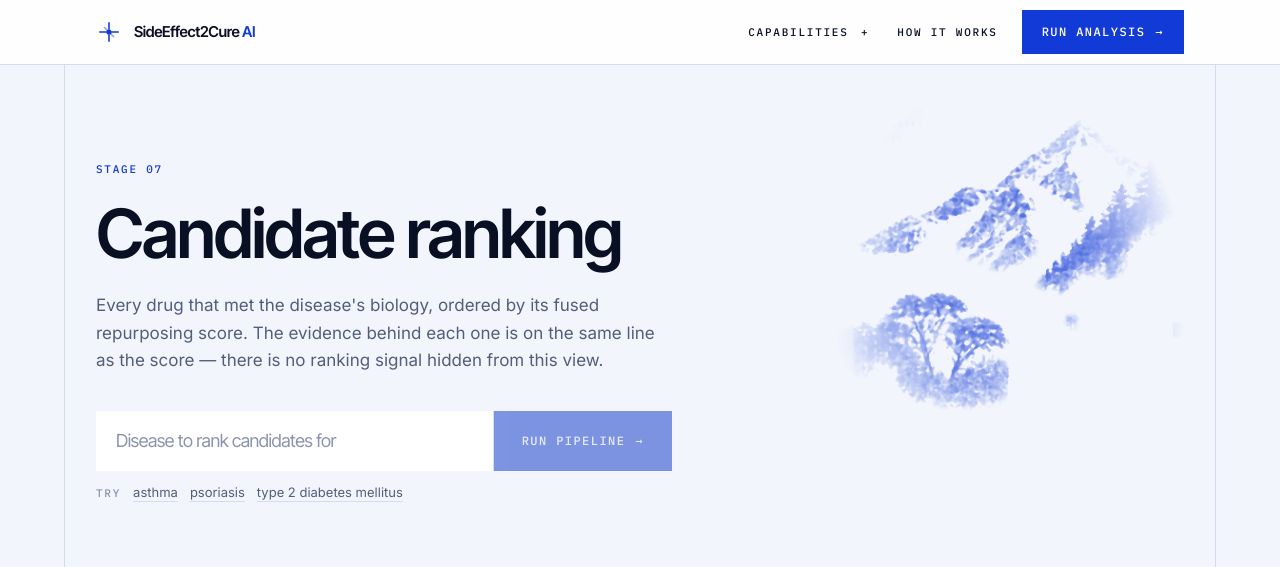
candidate ranking › runs the pipeline and lists ranked candidates with their evidence
The width and height of the screenshot is (1280, 567).
In the field labelled "Disease to rank candidates for": (294, 441) [96,411,493,471], type "glioblastoma"
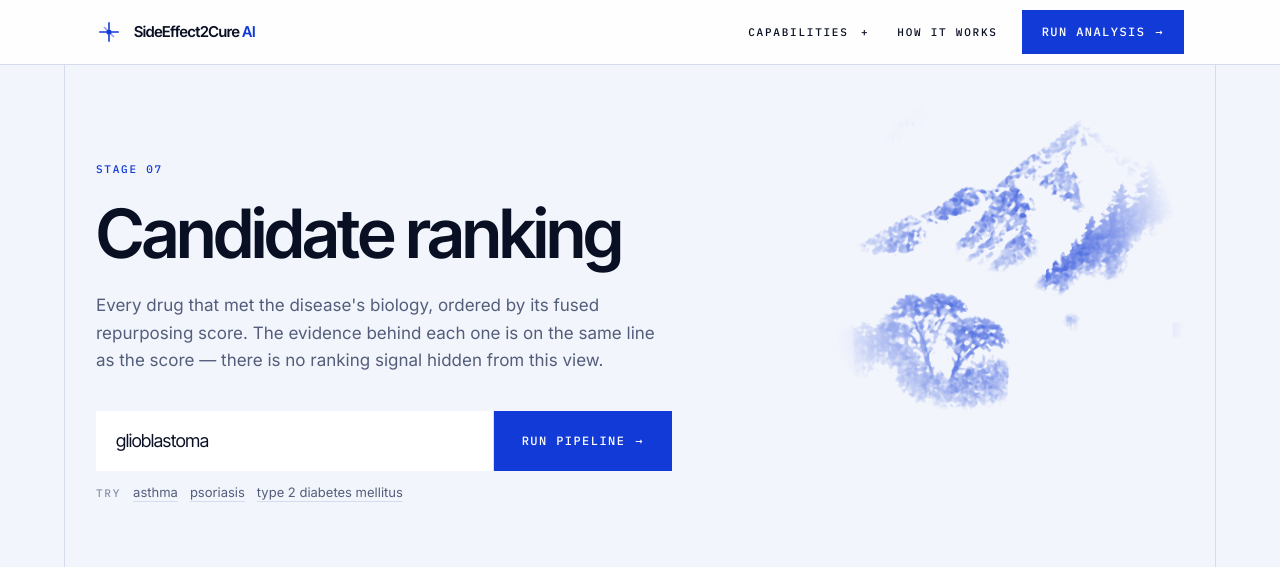
Click the button "Run pipeline →": (583, 441) [494,411,672,471]
(page scrolled)
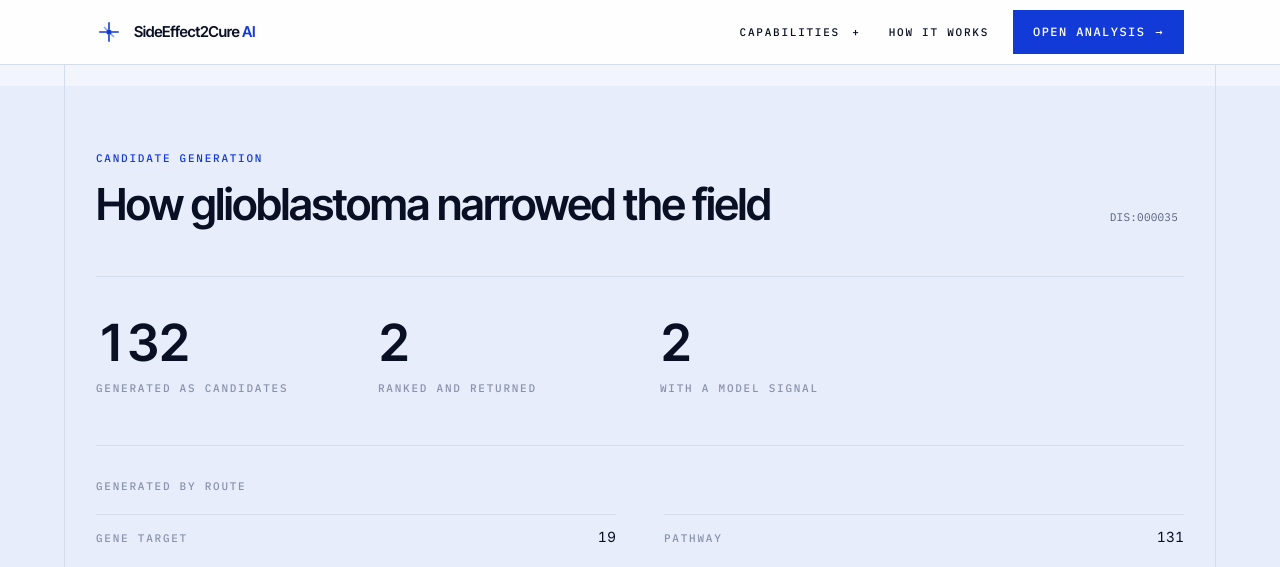
Now the text "132" is shown, box [96,311,189,373]
